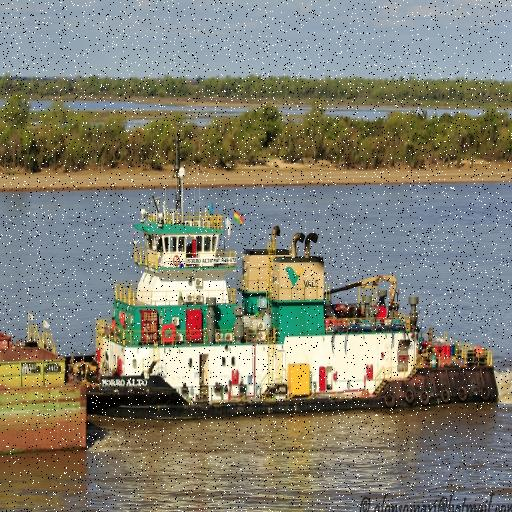tugboat: (24, 197, 503, 417)
